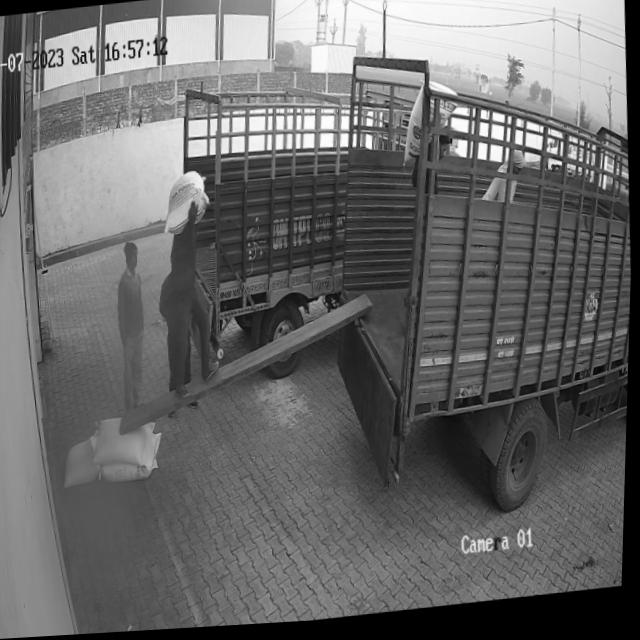sack: (401, 82, 462, 171), (92, 415, 160, 472), (99, 433, 167, 486), (163, 171, 213, 239), (63, 436, 106, 490)
